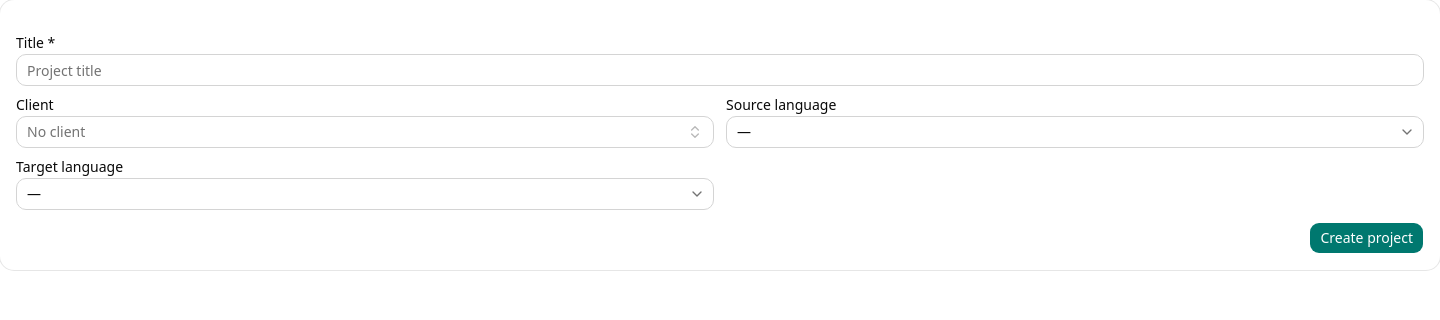
Test: CreateProjectForm › shows a validation error when title is blank
The image size is (1440, 320).
Click the button "Create project" at (1367, 238), box [1309,222,1424,254]
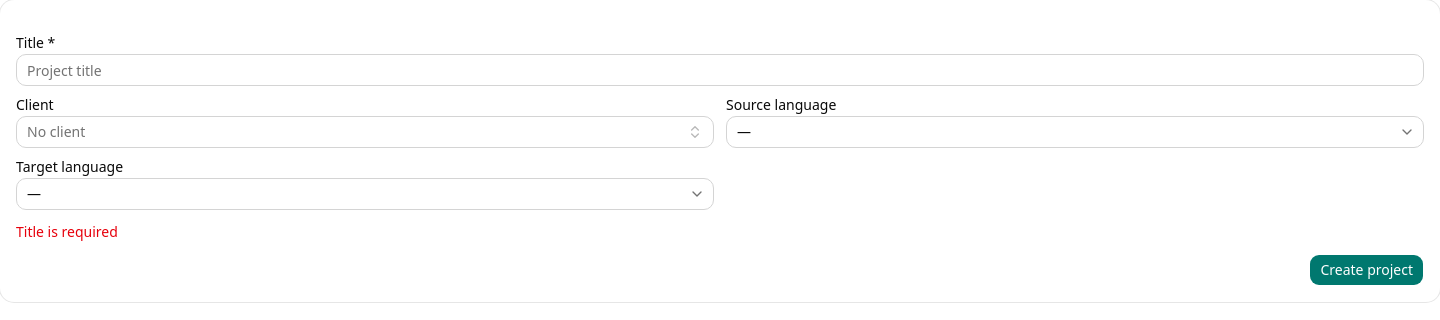
Result: the text "Title is required" is shown at [16,222,118,241]
